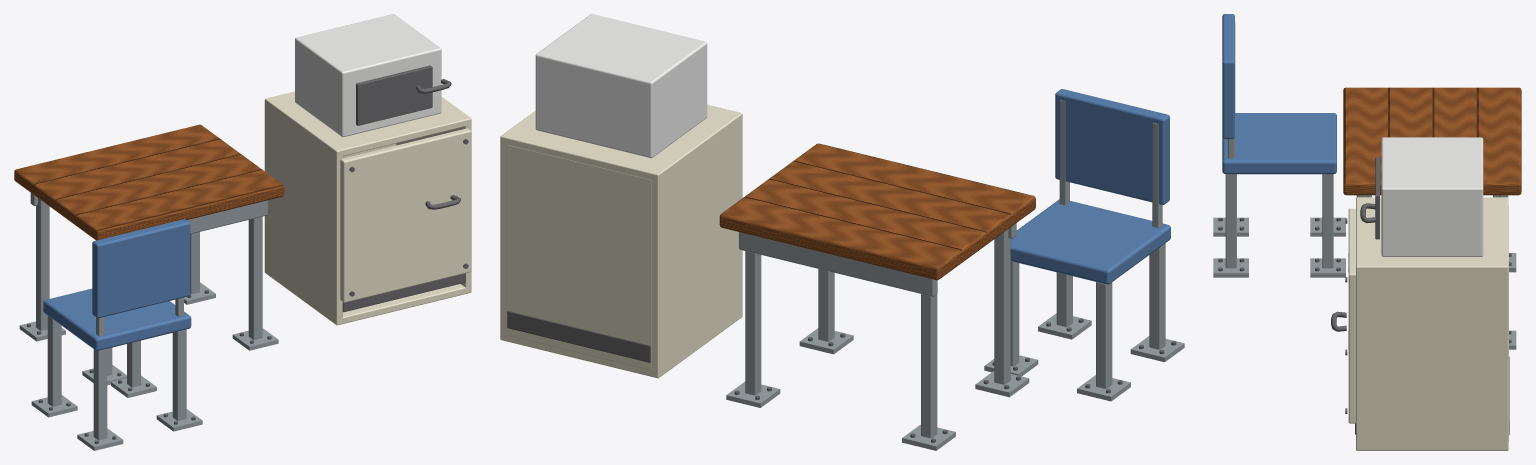
The model's file is prison-complex-builder-break-room-station-62e5edb0__25685.glb.
The picture shows the model from 3 angles, left to right: view 1: azimuth 30°, elevation 25°; view 2: azimuth 150°, elevation 25°; view 3: azimuth 270°, elevation 25°; orthographic projection. The views are drawn at different scales.
Parts seen in each view (by area): view 1: break-room-station, door-1/paintCream; view 2: break-room-station; view 3: break-room-station, door-1/paintCream.
Part boxes in pixels (bbox=[...]): break-room-station: bbox=[14, 14, 471, 450]; door-1/paintCream: bbox=[340, 128, 471, 302]; break-room-station: bbox=[500, 14, 1184, 450]; break-room-station: bbox=[1213, 14, 1521, 450]; door-1/paintCream: bbox=[1348, 208, 1355, 423].
Bounding box in the file's own units: 2.13 × 1.1 × 1.21.
Materials: 7 (1 with a texture image).
